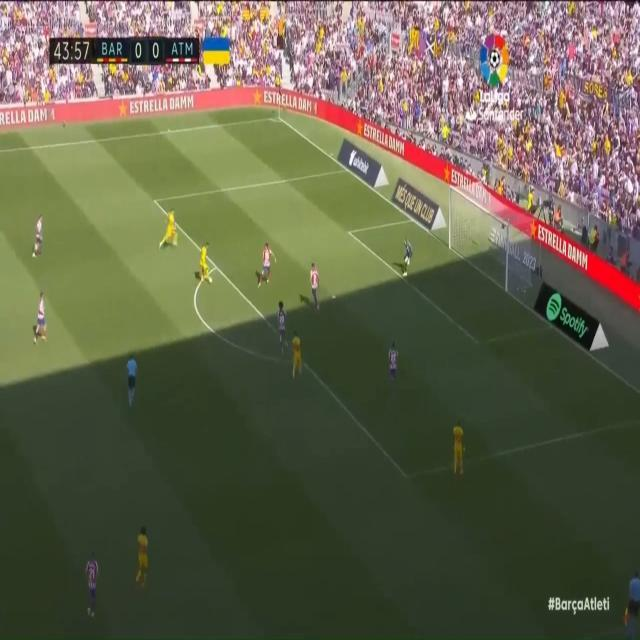ball: (207, 278, 216, 291)
goalkeeper: (394, 237, 418, 283)
player: (80, 546, 106, 619), (157, 204, 187, 255), (448, 420, 470, 481), (275, 292, 296, 355), (130, 526, 152, 582), (33, 200, 51, 263), (32, 293, 56, 336), (289, 331, 310, 376), (385, 338, 404, 387), (261, 237, 277, 294), (307, 261, 321, 310), (200, 236, 212, 292)
referee: (124, 342, 144, 406), (625, 558, 640, 640)
